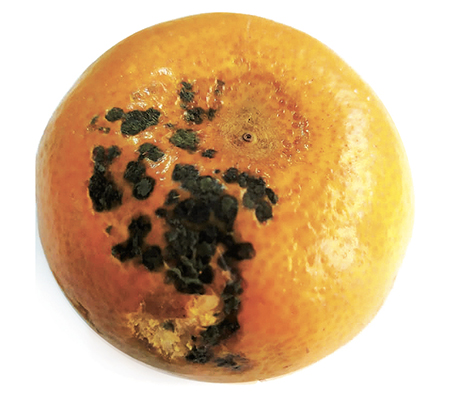Cladosporium: (79, 111, 232, 226), (115, 230, 168, 274), (238, 172, 278, 226), (222, 276, 240, 349)
